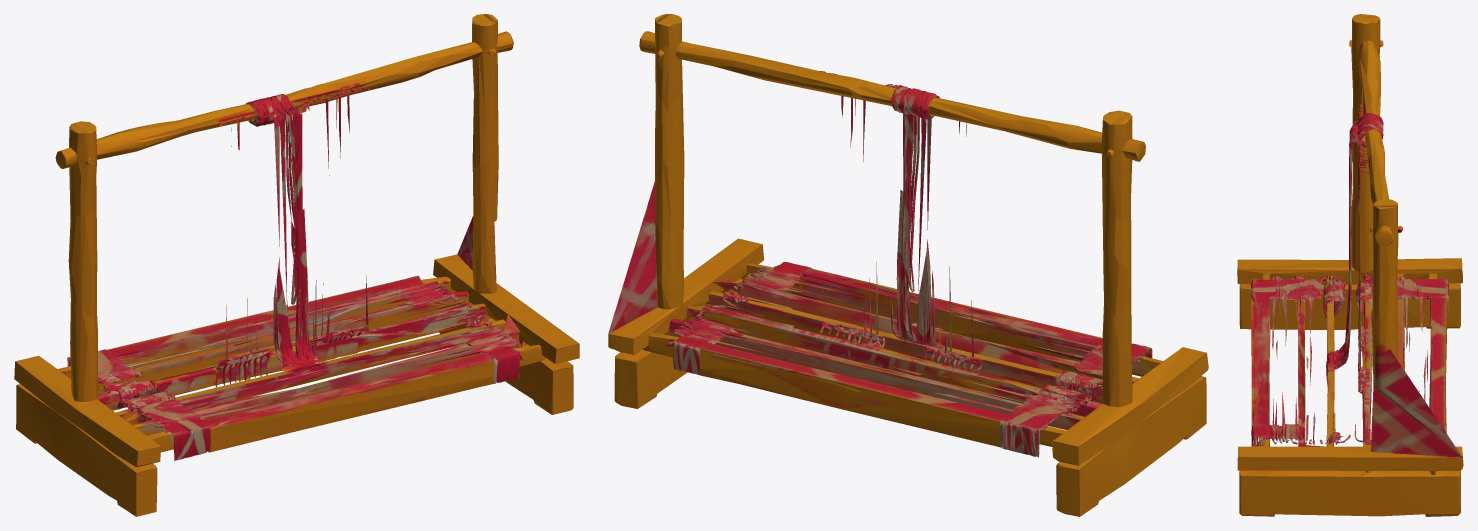
File: PROP_LOOM_001.glb
The picture shows the model from 3 angles, left to right: view 1: azimuth 30°, elevation 25°; view 2: azimuth 150°, elevation 25°; view 3: azimuth 270°, elevation 25°; orthographic projection. The views are drawn at different scales.
Bounding box in the file's own units: 1.9 × 1.33 × 0.8819.
Materials: 1 (1 with a texture image).
